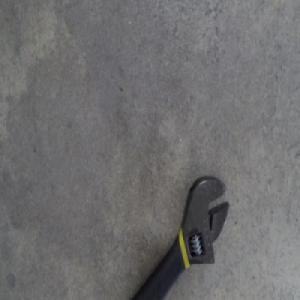AdjustableWrench: (130, 176, 230, 299)
